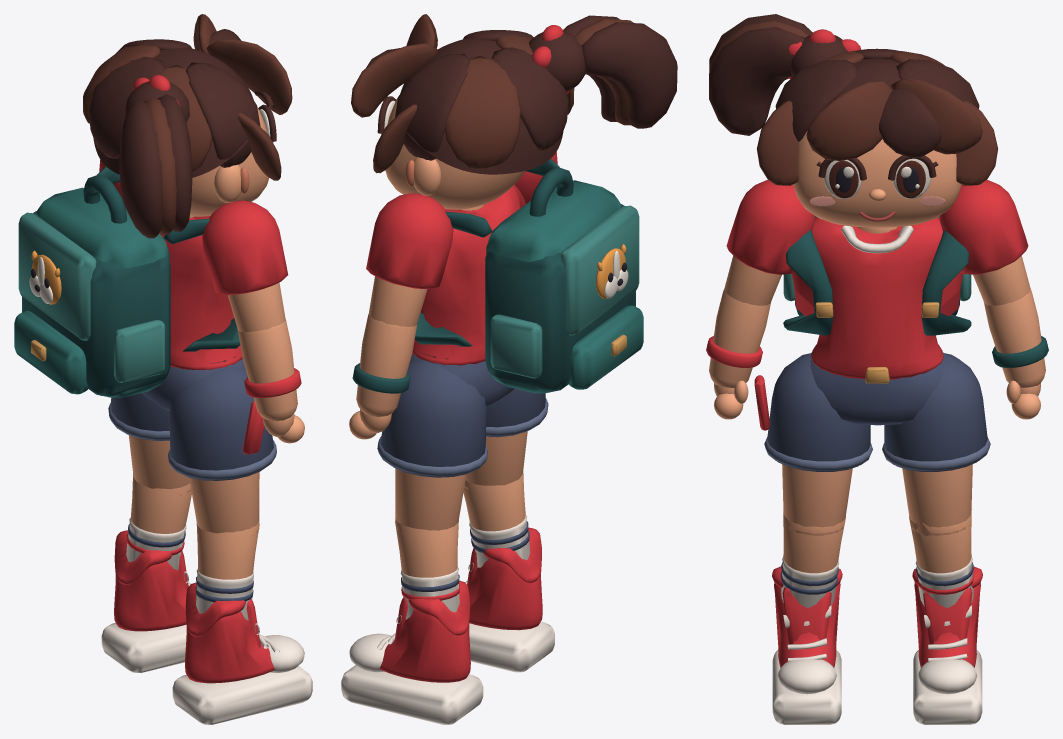
The picture shows the model from 3 angles, left to right: view 1: azimuth 30°, elevation 25°; view 2: azimuth 150°, elevation 25°; view 3: azimuth 270°, elevation 25°; orthographic projection. The views are drawn at different scales.
Parts seen in each view (by area): view 1: head.pal_hairChestnut, head.pal_hairWarm, backpackSocket.pal_tealDark, backpackSocket.pal_backpackTeal, backpackSocket.pal_tealLight, legR.pal_denim, torso.pal_survivorRed, footR.pal_picketWhite, armR.pal_survivorRed, footR.pal_survivorRed, footL.pal_survivorRed, foreArmR.pal_skinWarm (+20 smaller); view 2: head.pal_hairChestnut, head.pal_hairWarm, backpackSocket.pal_tealDark, backpackSocket.pal_backpackTeal, backpackSocket.pal_tealLight, legL.pal_denim, torso.pal_survivorRed, armL.pal_survivorRed, footL.pal_picketWhite, footL.pal_survivorRed, footR.pal_survivorRed, head.pal_skinWarm (+21 smaller); view 3: head.pal_hairChestnut, torso.pal_survivorRed, head.pal_hairWarm, head.pal_skinWarm, legL.pal_denim, legR.pal_denim, armR.pal_survivorRed, armL.pal_survivorRed, torso.pal_tealDark, footL.pal_picketWhite, footR.pal_picketWhite, hip.pal_denim (+27 smaller).
Boxes of the visible parts, bbox=[...] form: head.pal_hairChestnut: bbox=[88, 29, 276, 238]; head.pal_hairWarm: bbox=[83, 14, 292, 234]; backpackSocket.pal_tealDark: bbox=[22, 174, 170, 396]; backpackSocket.pal_backpackTeal: bbox=[14, 187, 169, 397]; backpackSocket.pal_tealLight: bbox=[18, 212, 165, 382]; legR.pal_denim: bbox=[169, 366, 273, 480]; torso.pal_survivorRed: bbox=[159, 216, 242, 369]; footR.pal_picketWhite: bbox=[172, 623, 312, 724]; armR.pal_survivorRed: bbox=[202, 200, 288, 295]; footR.pal_survivorRed: bbox=[185, 582, 274, 683]; footL.pal_survivorRed: bbox=[114, 530, 188, 631]; foreArmR.pal_skinWarm: bbox=[238, 319, 297, 421]; head.pal_hairChestnut: bbox=[366, 15, 677, 174]; head.pal_hairWarm: bbox=[351, 14, 633, 173]; backpackSocket.pal_tealDark: bbox=[485, 167, 635, 391]; backpackSocket.pal_backpackTeal: bbox=[486, 180, 643, 393]; backpackSocket.pal_tealLight: bbox=[490, 205, 639, 378]; legL.pal_denim: bbox=[380, 361, 486, 477]; torso.pal_survivorRed: bbox=[412, 184, 525, 365]; armL.pal_survivorRed: bbox=[366, 193, 453, 288]; footL.pal_picketWhite: bbox=[341, 615, 483, 724]; footL.pal_survivorRed: bbox=[379, 580, 470, 682]; footR.pal_survivorRed: bbox=[467, 527, 542, 630]; head.pal_skinWarm: bbox=[385, 97, 525, 210]; head.pal_hairChestnut: bbox=[709, 14, 979, 180]; torso.pal_survivorRed: bbox=[791, 217, 963, 379]; head.pal_hairWarm: bbox=[709, 20, 997, 185]; head.pal_skinWarm: bbox=[793, 131, 961, 233]; legL.pal_denim: bbox=[884, 353, 987, 471]; legR.pal_denim: bbox=[767, 353, 870, 471]; armR.pal_survivorRed: bbox=[726, 179, 815, 274]; armL.pal_survivorRed: bbox=[939, 179, 1028, 274]; torso.pal_tealDark: bbox=[783, 229, 971, 335]; footL.pal_picketWhite: bbox=[913, 605, 982, 724]; footR.pal_picketWhite: bbox=[772, 605, 841, 724]; hip.pal_denim: bbox=[810, 352, 944, 425].
Size of the model in its own units: 0.4672 by 1.25 by 0.6105.
